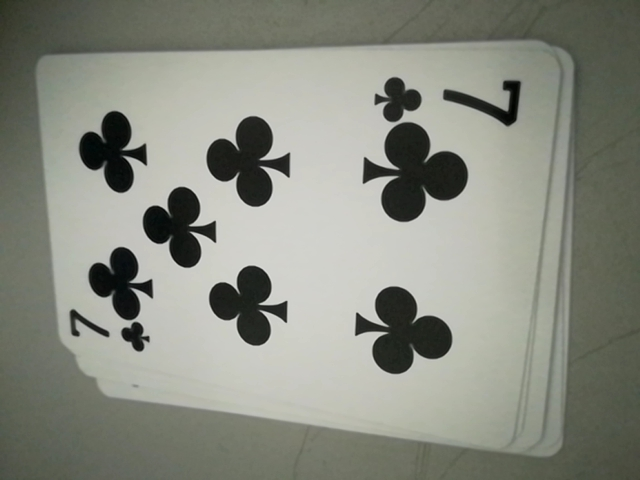mh 7: (368, 64, 525, 126), (62, 307, 151, 359)
